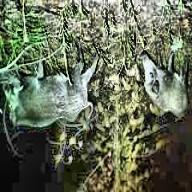boar: (1, 30, 101, 146), (133, 46, 190, 123)
